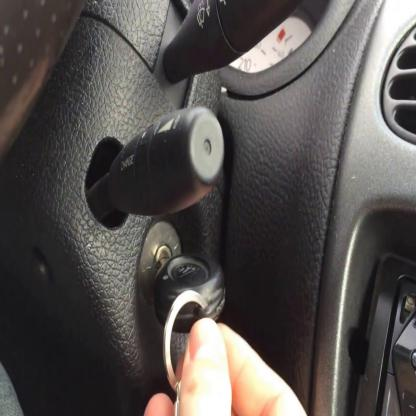keys: (156, 239, 226, 342)
